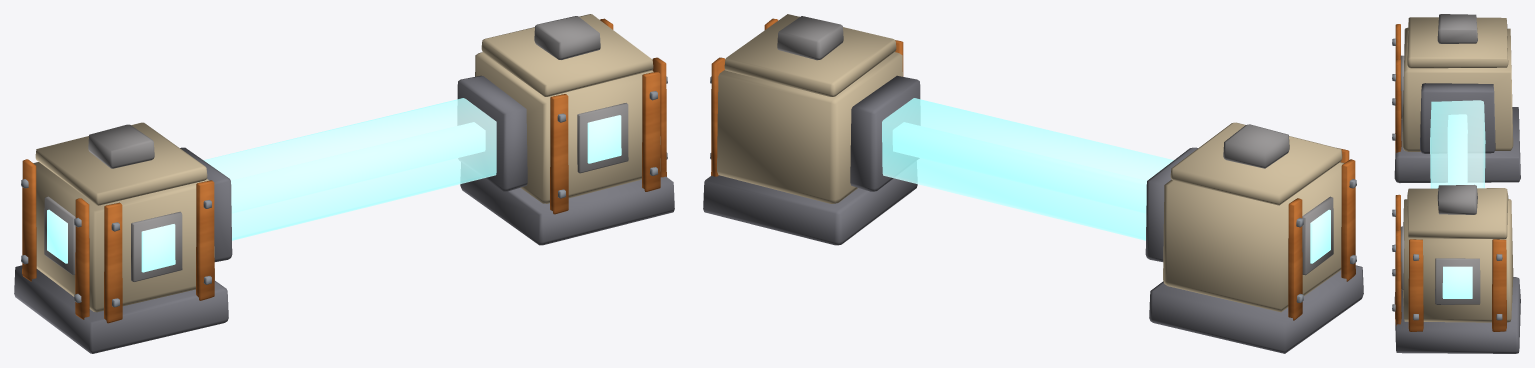
The model's file is OBJ14_graph_edge.glb.
3 renders of one model, left to right at view 1: azimuth 30°, elevation 25°; view 2: azimuth 150°, elevation 25°; view 3: azimuth 270°, elevation 25°, orthographic. The views are drawn at different scales.
Visible parts, largest first — view 1: GlowBar, Core, Core2, Base, GlowBarCore, Base2, TopPlate, TopPlate2, Collar2, TopKnob, TopKnob2, Brace_1_1 (+13 smaller); view 2: GlowBar, Core, Core2, Base, Base2, GlowBarCore, TopPlate2, TopPlate, Collar2, TopKnob, TopKnob2, Collar (+5 smaller); view 3: Core2, GlowBar, Core, Collar, Base2, TopPlate, TopPlate2, Base, Brace_0_12, Brace_0_-12, GlowBarCore, WindowFrame_02 (+9 smaller).
Boxes of the visible parts, x1,y1,x2,y2 form: GlowBar: [204, 98, 496, 240]; Core: [33, 162, 214, 312]; Core2: [475, 52, 660, 203]; Base: [14, 265, 228, 353]; GlowBarCore: [231, 122, 484, 212]; Base2: [460, 162, 674, 245]; TopPlate: [35, 122, 207, 205]; TopPlate2: [481, 14, 653, 96]; Collar2: [457, 75, 527, 191]; TopKnob: [88, 124, 154, 168]; TopKnob2: [534, 16, 600, 59]; Brace_1_1: [104, 202, 122, 323]; GlowBar: [882, 98, 1173, 240]; Core: [1163, 162, 1344, 312]; Core2: [717, 52, 902, 203]; Base: [1149, 265, 1363, 353]; Base2: [703, 161, 917, 245]; GlowBarCore: [893, 122, 1146, 212]; TopPlate2: [724, 14, 896, 96]; TopPlate: [1170, 122, 1342, 205]; Collar2: [850, 75, 920, 191]; TopKnob: [1223, 124, 1289, 168]; TopKnob2: [777, 16, 843, 60]; Collar: [1145, 147, 1197, 261]; Core2: [1402, 199, 1513, 322]; GlowBar: [1430, 100, 1485, 188]; Core: [1402, 27, 1513, 151]; Collar: [1420, 83, 1495, 153]; Base2: [1394, 277, 1520, 353]; TopPlate: [1407, 17, 1508, 68]; TopPlate2: [1407, 188, 1508, 239]; Base: [1394, 107, 1520, 182]; Brace_0_12: [1408, 239, 1423, 331]; Brace_0_-12: [1492, 239, 1506, 331]; GlowBarCore: [1448, 115, 1467, 184]; WindowFrame_02: [1435, 258, 1480, 304].
Bounding box in the file's own units: 2.12 × 0.6 × 0.51.
7 materials, 1 textured.
